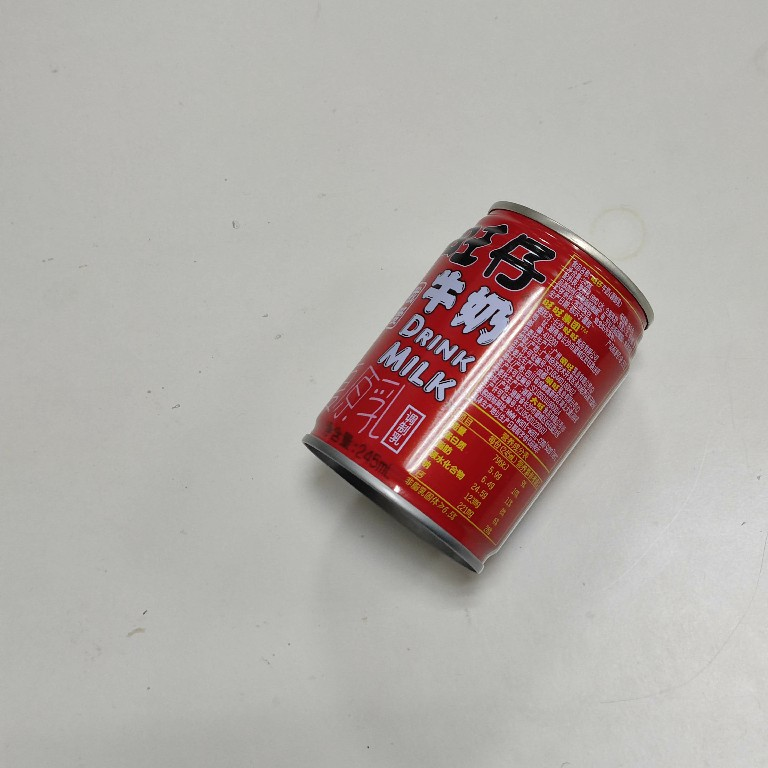can: (295, 194, 660, 578)
